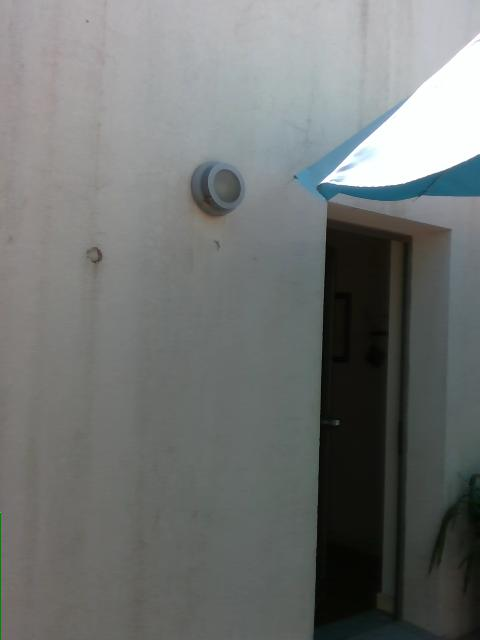open_door: (316, 195, 451, 638)
